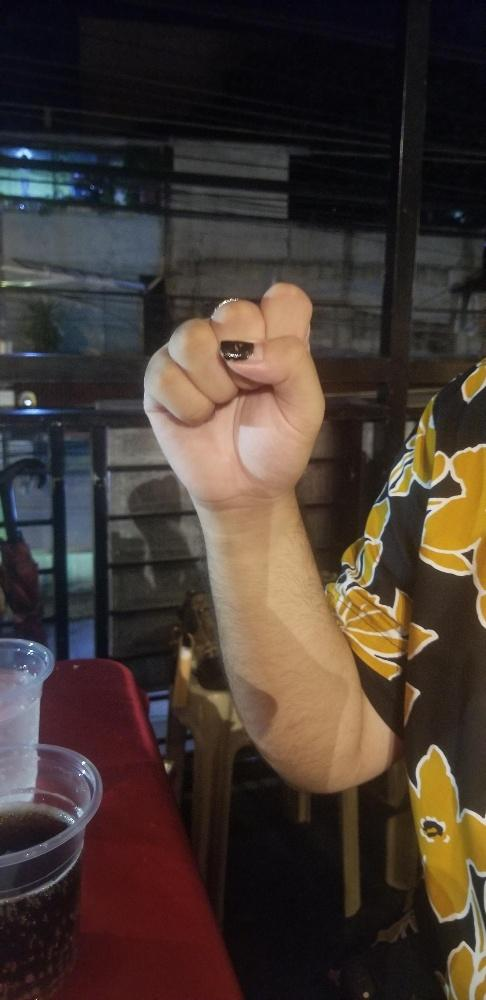s: (136, 277, 326, 502)
